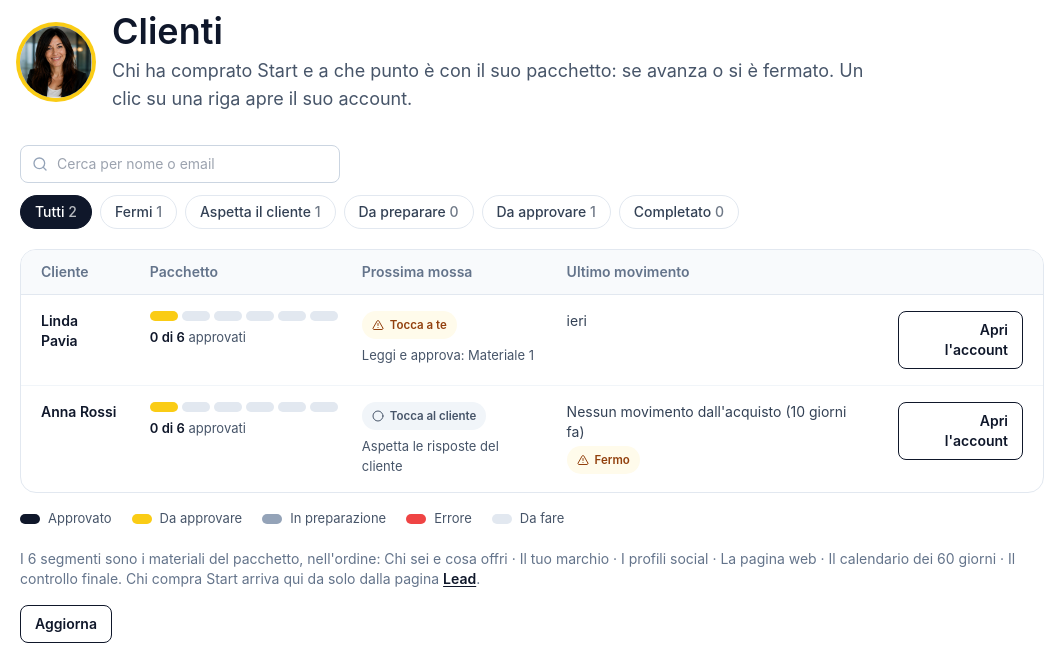
Test: filtri con i conteggi (anche Fermi), e ricerca per nome
The image size is (1061, 660).
Expected: the link "Linda Pavia" is shown, [41,312,78,349]
Expected: the button "Tutti 2" is shown, [20,195,92,229]
Click the button "Fermi 1" at (138, 212), box [100,195,177,229]
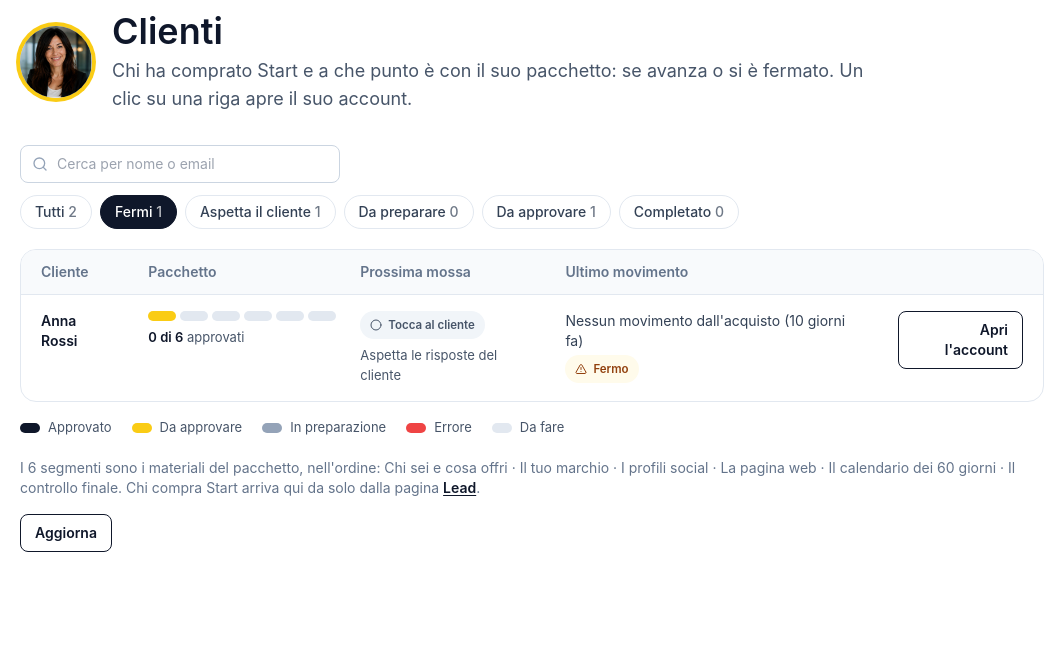
Expected: the link "Anna Rossi" is shown, [41,312,78,349]
Expected: the link "Linda Pavia" is gone
Click the button "Da approvare 1" at (546, 212), box [482,195,611,229]
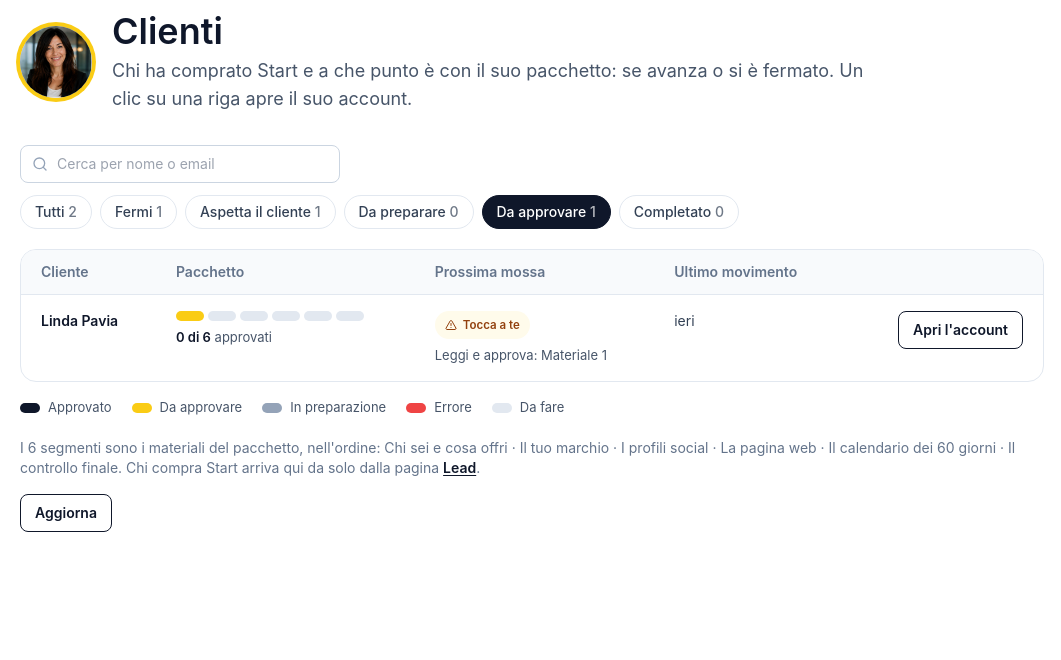
Expected: the link "Anna Rossi" is gone
Click the button "Tutti 2" at (56, 212), box [20,195,92,229]
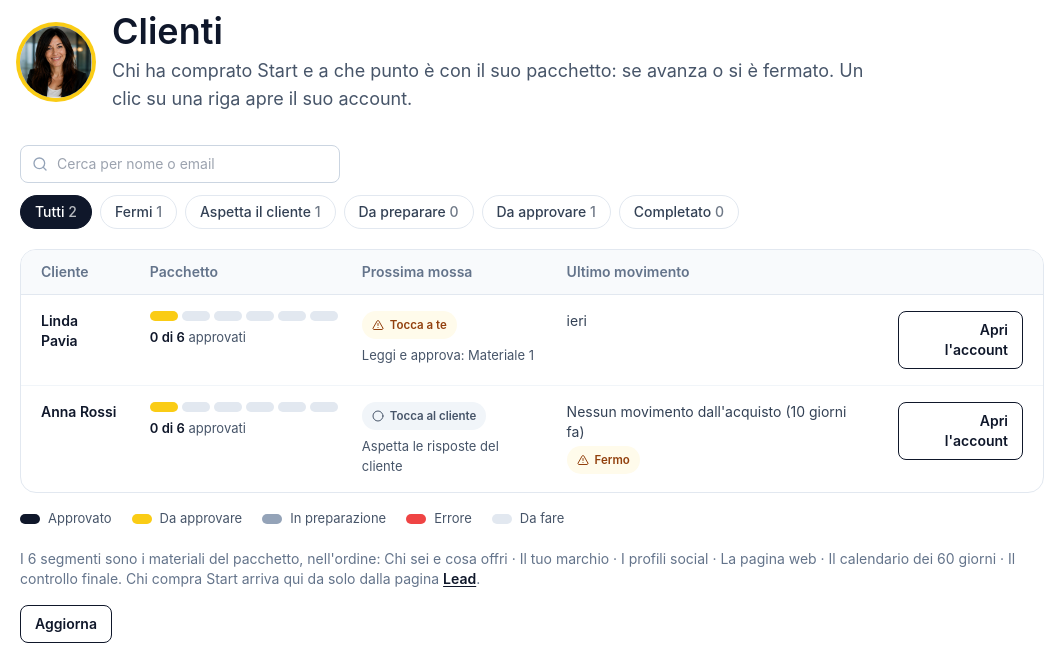
Type "anna" into the search field with placeholder "Cerca per nome o email" at (180, 164), box [20,145,340,183]
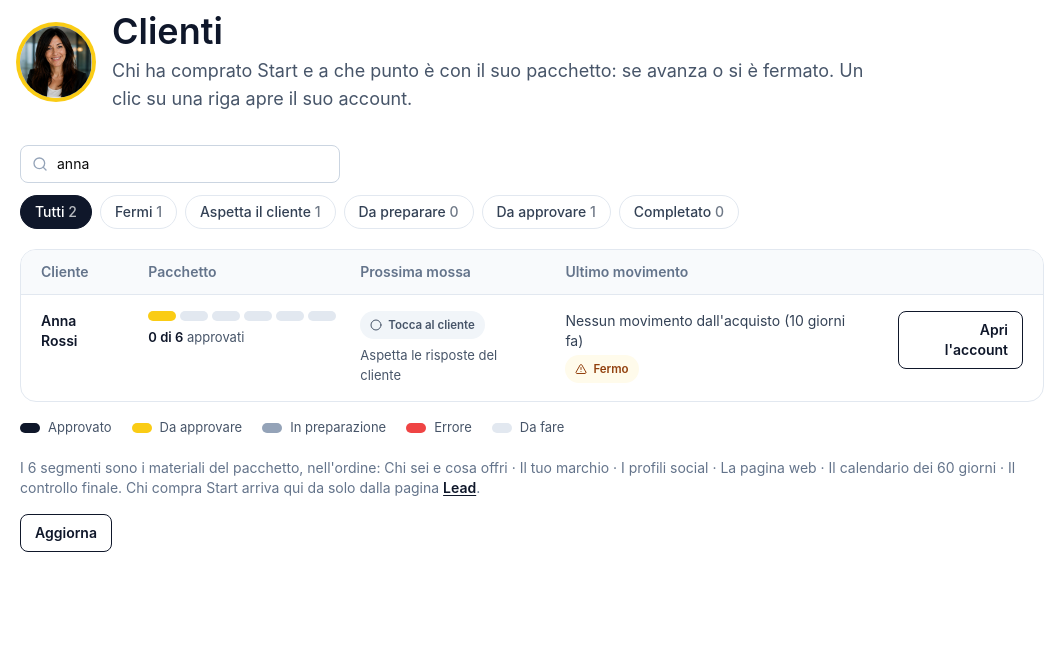
Expected: the link "Anna Rossi" is shown, [41,312,78,349]
Expected: the link "Linda Pavia" is gone
